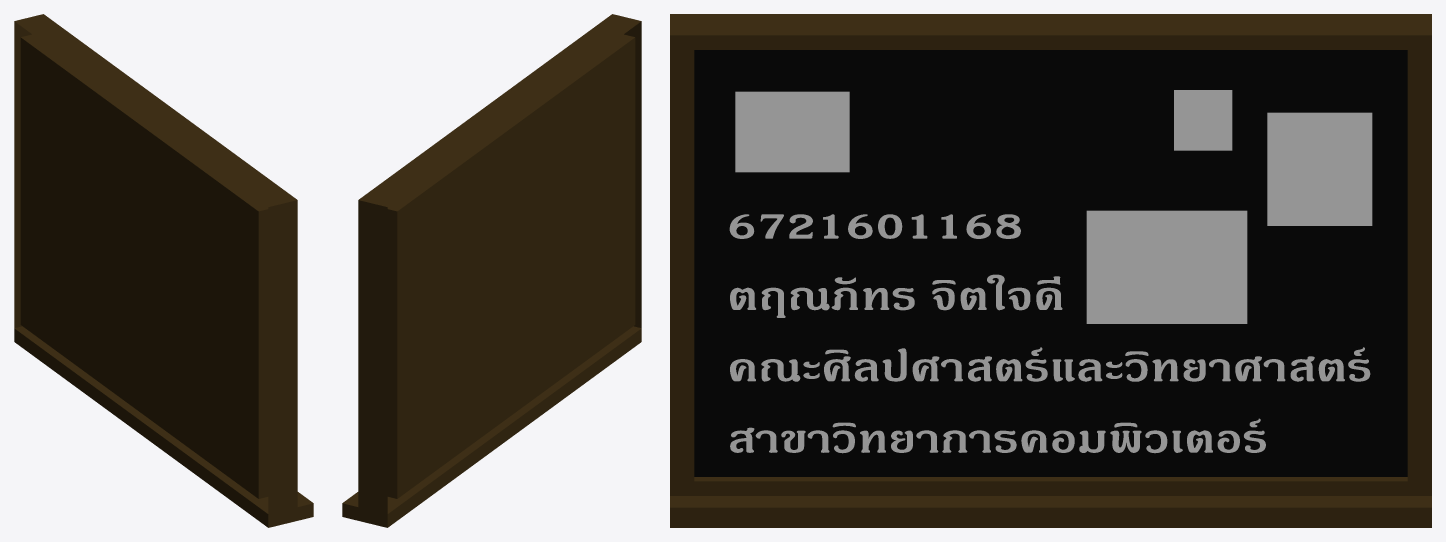
File: blackboard.glb
3 views of the same model, side by side, from view 1: azimuth 30°, elevation 25°; view 2: azimuth 150°, elevation 25°; view 3: azimuth 270°, elevation 25° (orthographic). The views are drawn at different scales.
Parts seen in each view (by area): view 1: Cube.011; view 2: Cube.011; view 3: Cube.011, Text, Plane.006, Plane.004, Plane.005, Plane.007.
Boxes of the visible parts, x1=… form: Cube.011: x1=14, y1=14, x2=313, y2=527; Cube.011: x1=342, y1=14, x2=641, y2=527; Cube.011: x1=670, y1=14, x2=1431, y2=527; Text: x1=729, y1=214, x2=1370, y2=453; Plane.006: x1=1086, y1=210, x2=1247, y2=323; Plane.004: x1=1267, y1=112, x2=1372, y2=225; Plane.005: x1=735, y1=91, x2=849, y2=172; Plane.007: x1=1174, y1=90, x2=1232, y2=150.
Size of the model in its own units: 0.3205 by 2.09 by 3.
